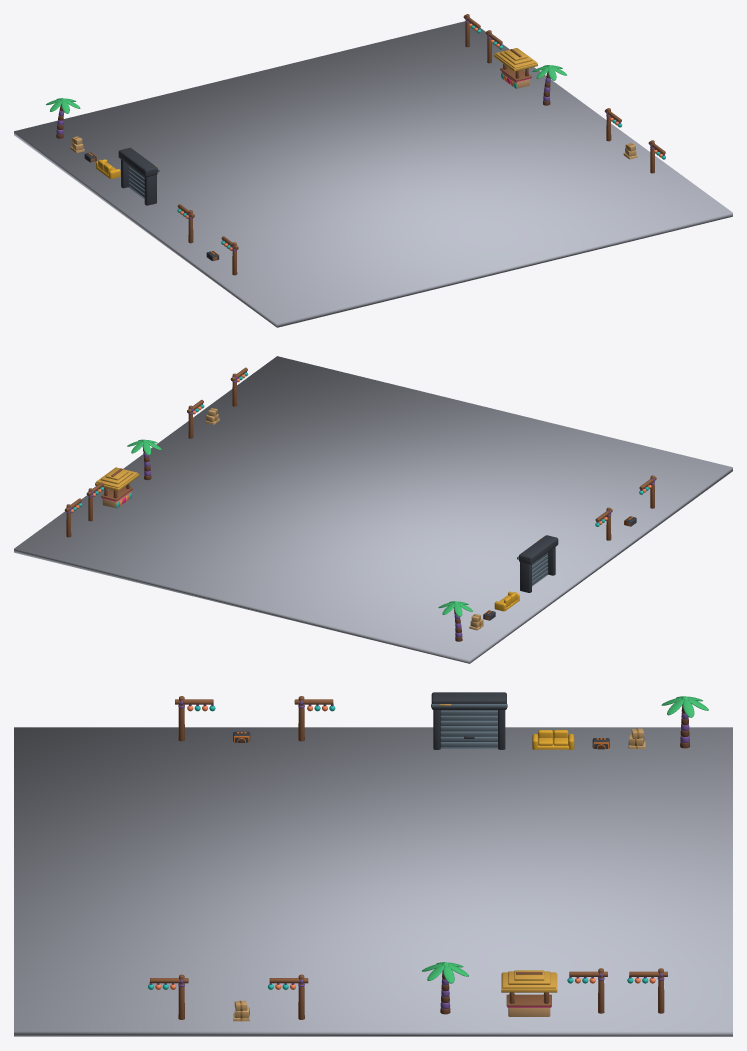
Rendered from Underground.fbx.
3 views of the same model, one above another, from view 1: azimuth 30°, elevation 25°; view 2: azimuth 150°, elevation 25°; view 3: azimuth 270°, elevation 25° (orthographic). The views are drawn at different scales.
Parts seen in each view (by area): view 1: Root, Wood, Garagedark, Straw, Leaf; view 2: Root, Wood, Garagedark, Leaf, Straw; view 3: Root, Wood, Garage, Garagedark, Straw, Leaf, Mustard, Purple, Card.
Boxes of the visible parts, x1,y1,x2,y2 form: Root: (14, 21, 732, 327); Wood: (90, 14, 665, 275); Garagedark: (84, 147, 218, 260); Straw: (494, 48, 537, 71); Leaf: (46, 65, 566, 113); Root: (14, 356, 732, 663); Wood: (64, 367, 656, 620); Garagedark: (483, 516, 636, 620); Leaf: (127, 439, 472, 616); Straw: (95, 467, 138, 491); Root: (14, 727, 732, 1036); Wood: (150, 696, 667, 1019); Garage: (235, 704, 607, 748); Garagedark: (233, 692, 609, 749); Straw: (501, 970, 557, 992); Leaf: (422, 696, 708, 983); Mustard: (532, 730, 574, 749); Purple: (149, 701, 689, 1008); Card: (233, 728, 645, 1021).
Size of the model in its own units: 120 by 10.54 by 120.
